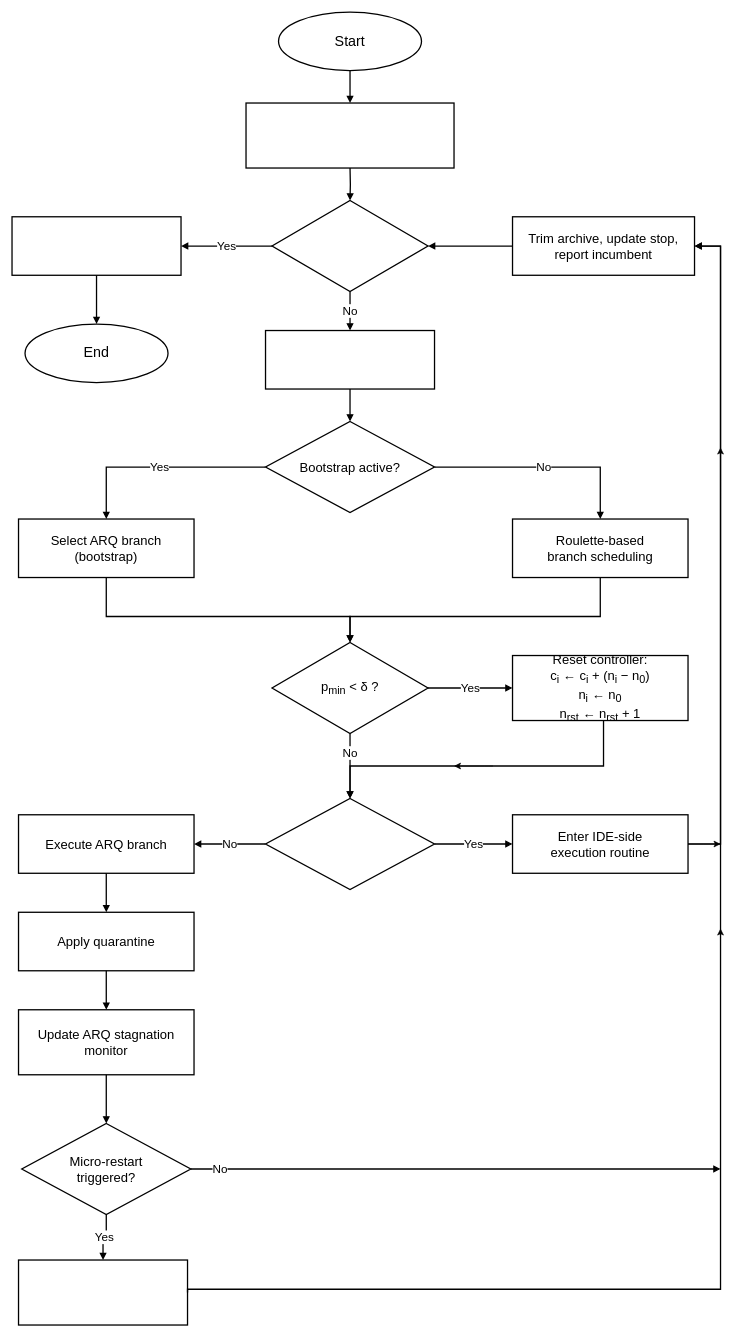
The diagram is 737 pixels wide and 1336 high, and some of its shapes have lost their labels. The shapes that lost their labels are listed below. From the top down, each one's centre as x and y in pixels, then its label:
At (349,135): "Initialize population, archive, incumbent, controller, and IDE state".
At (96,246): "Return incumbent x * , f *".
At (349,246): "Termination? (e ≥ T eval )".
At (350,359): "Trim archive (cap = ⌊α A N⌋)".
At (350,844): "Selected branch = IDE?".
At (103,1292): "Apply ARQ-only micro-restart".
